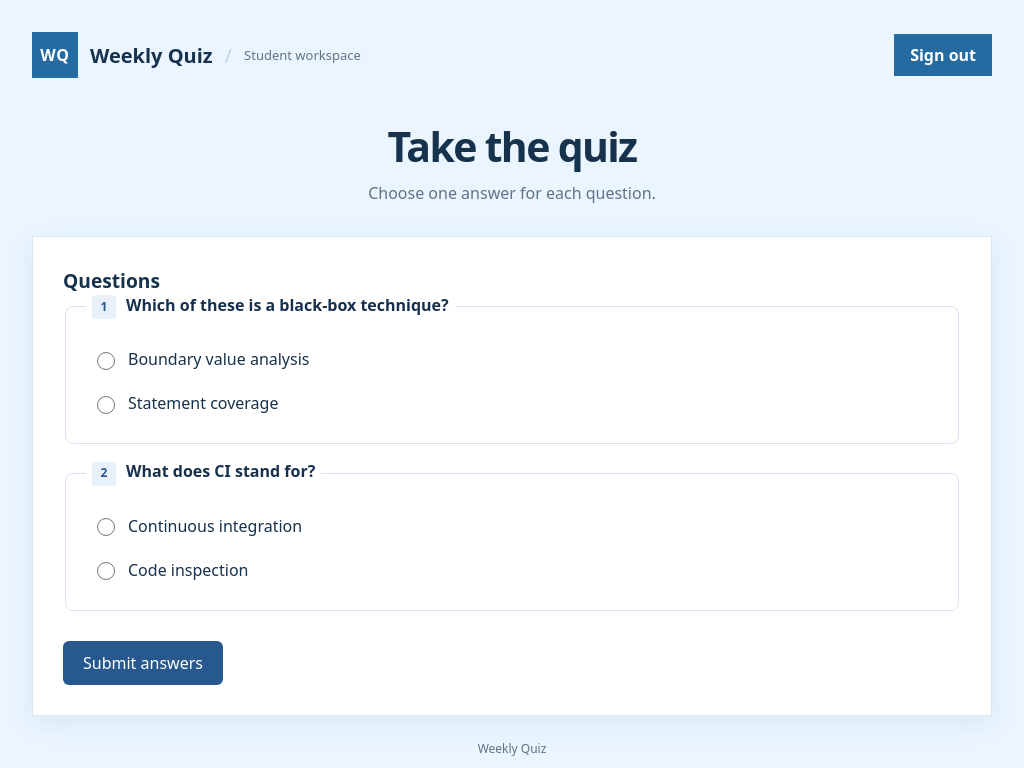
Test: refuses to submit until every question is answered
The image size is (1024, 768).
Click the radio button labelled "Boundary value analysis" at (106, 361), box top-left (97, 352), bottom-right (115, 370)
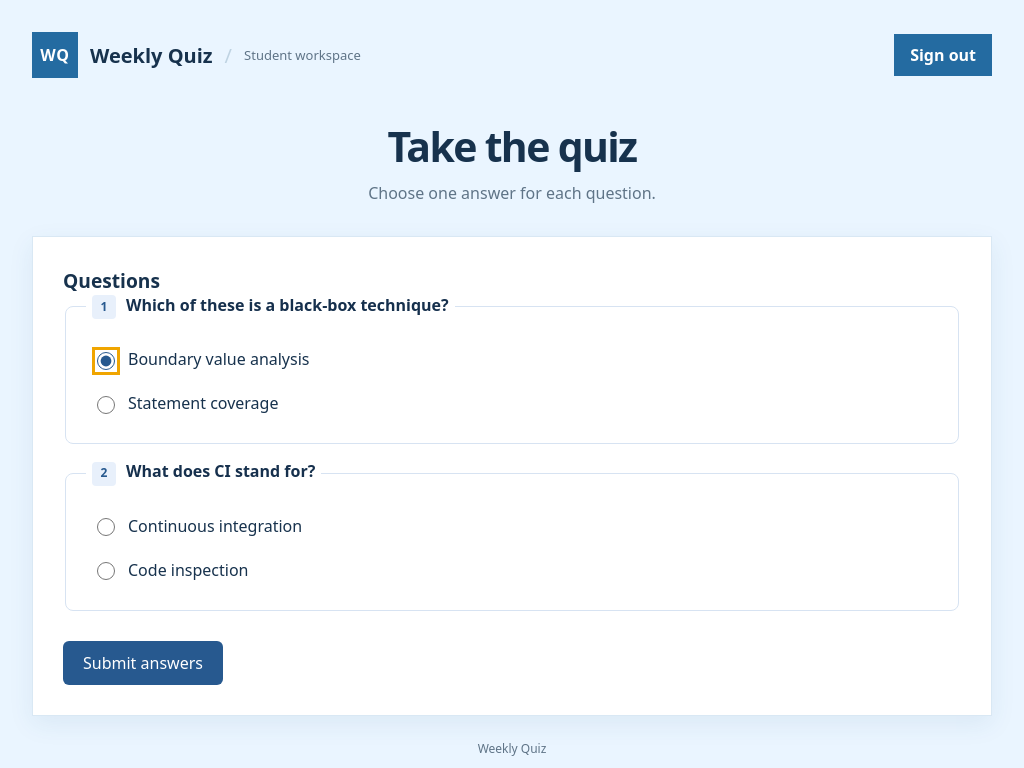
Click the button "Submit answers" at (143, 663), box top-left (63, 641), bottom-right (223, 685)
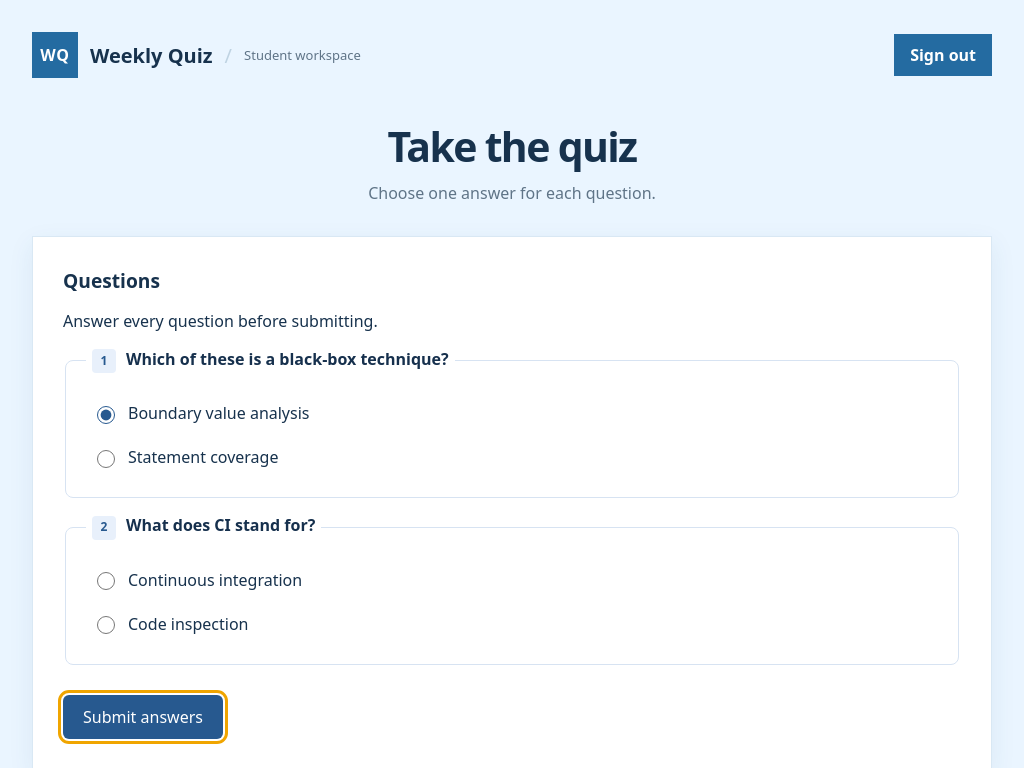
expect the message shows "every question": met, box top-left (63, 310), bottom-right (378, 332)
